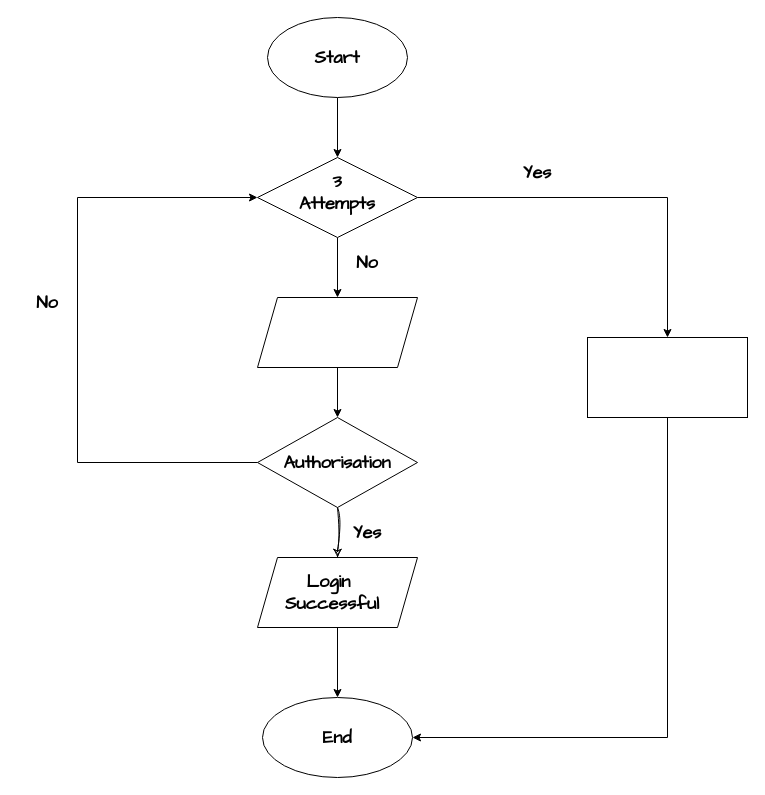
The diagram is 765 pixels wide and 795 high, and some of its shapes have lost their labels. Each missing label, with the box of its shape:
Account Lock: (586, 336, 748, 418)
Username & Password: (256, 296, 418, 368)
